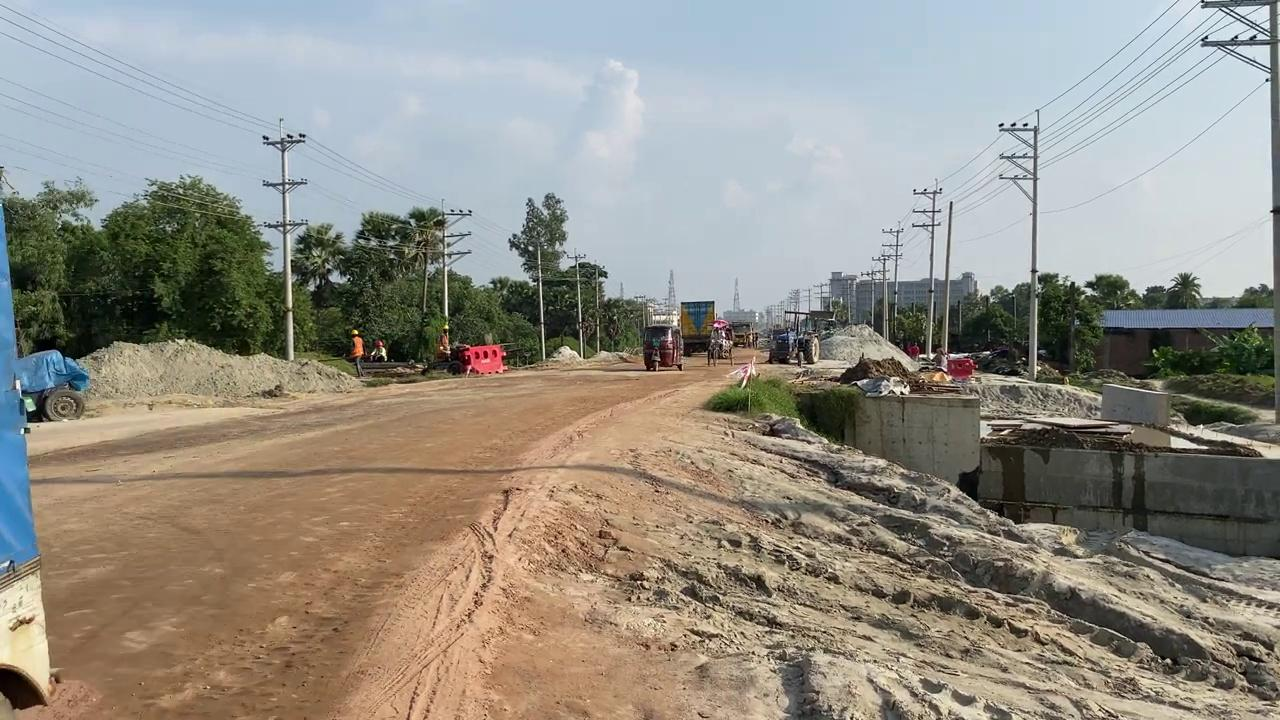Car: (18, 349, 90, 422)
Obstacle: (793, 377, 981, 491), (1100, 382, 1170, 427), (452, 341, 512, 374)
Pole: (261, 117, 308, 360)
Traffic-sign: (507, 191, 568, 361)
Tree: (422, 202, 511, 376), (422, 326, 512, 376), (641, 268, 684, 371), (766, 309, 819, 365), (730, 320, 753, 347)
Upstairs: (795, 375, 1278, 558)
